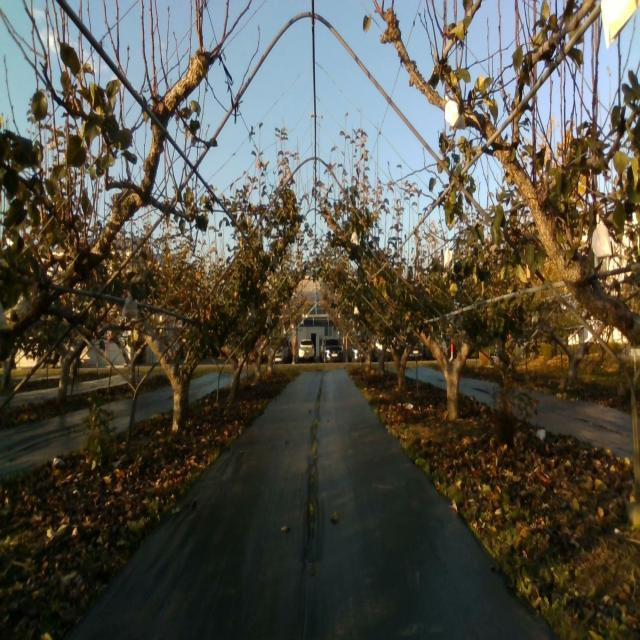pearbags: (600, 0, 640, 49), (591, 214, 613, 267), (443, 95, 466, 129), (122, 294, 138, 320), (444, 244, 454, 271)
